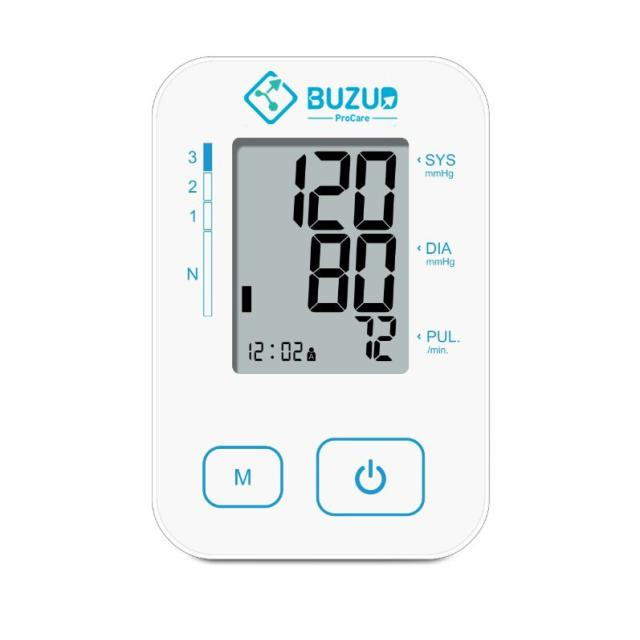dia: (297, 227, 401, 315)
pul: (345, 310, 411, 365)
ssd: (230, 136, 409, 382)
sys: (280, 144, 414, 230)
